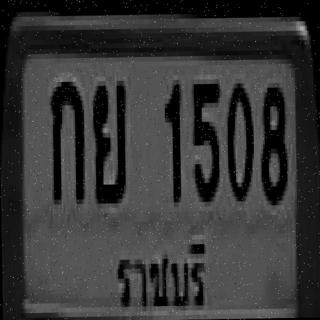A01: (48, 77, 83, 200)
A34: (90, 76, 126, 199)
N00: (225, 78, 252, 196)
N01: (162, 80, 181, 198)
N05: (190, 79, 219, 197)
N08: (258, 82, 286, 200)
P52: (108, 230, 209, 317)
